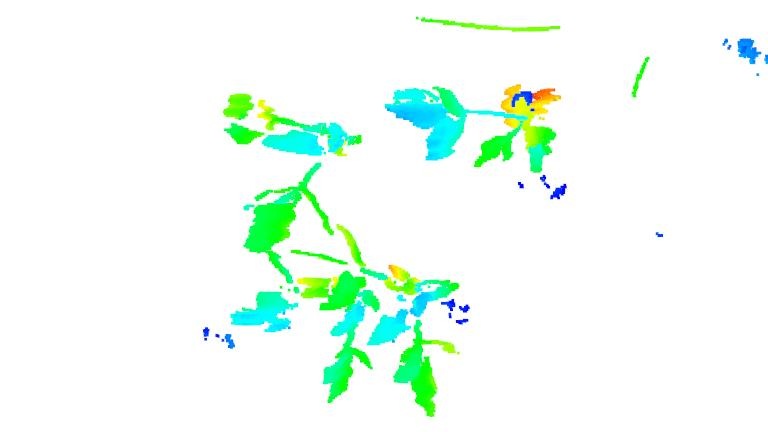mungbean: (233, 229, 379, 400), (214, 88, 357, 250), (383, 69, 567, 174), (370, 259, 473, 415)
